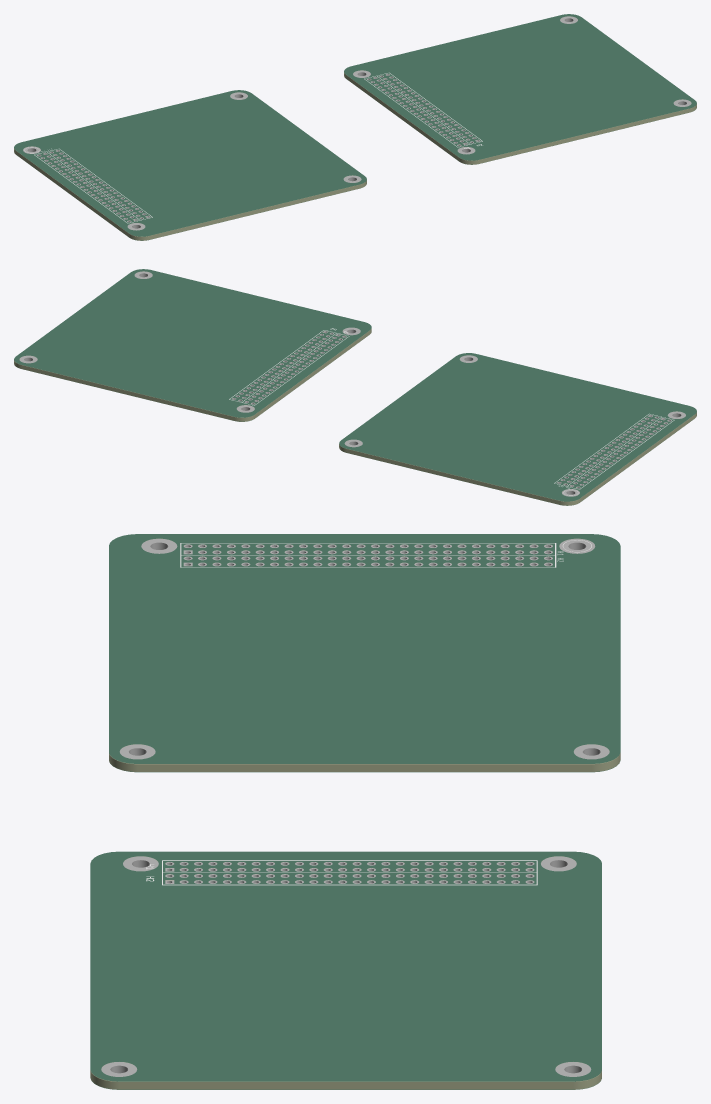
The model's file is board.glb.
3 views of the same model, one above another, from view 1: azimuth 30°, elevation 25°; view 2: azimuth 150°, elevation 25°; view 3: azimuth 270°, elevation 25° (orthographic). The views are drawn at different scales.
Visible parts, largest first — view 1: =>[0:1:1:4], =>[0:1:1:6], =>[0:1:1:2], =>[0:1:1:3]; view 2: =>[0:1:1:4], =>[0:1:1:6], =>[0:1:1:2], =>[0:1:1:3]; view 3: =>[0:1:1:4], =>[0:1:1:2], =>[0:1:1:6], =>[0:1:1:3].
Part boxes in pixels (x1=…): =>[0:1:1:4]: x1=14, y1=14, x2=696, y2=240; =>[0:1:1:6]: x1=14, y1=70, x2=696, y2=240; =>[0:1:1:2]: x1=23, y1=16, x2=691, y2=230; =>[0:1:1:3]: x1=24, y1=72, x2=482, y2=223; =>[0:1:1:4]: x1=14, y1=269, x2=696, y2=505; =>[0:1:1:6]: x1=14, y1=271, x2=696, y2=505; =>[0:1:1:2]: x1=19, y1=271, x2=685, y2=496; =>[0:1:1:3]: x1=229, y1=328, x2=674, y2=495; =>[0:1:1:4]: x1=90, y1=534, x2=620, y2=1089; =>[0:1:1:2]: x1=101, y1=538, x2=609, y2=1076; =>[0:1:1:6]: x1=90, y1=538, x2=620, y2=1089; =>[0:1:1:3]: x1=146, y1=540, x2=591, y2=885.
Bounding box in the file's own units: 0.2283 × 0.00163 × 0.0934.
